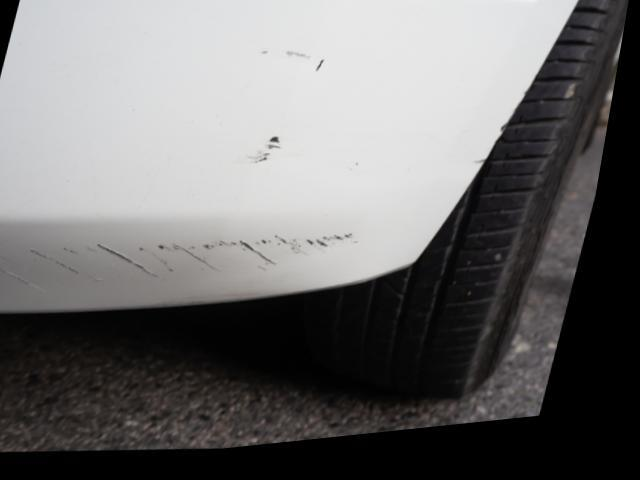scratch: (0, 231, 369, 300), (259, 47, 335, 84), (245, 135, 290, 176)
